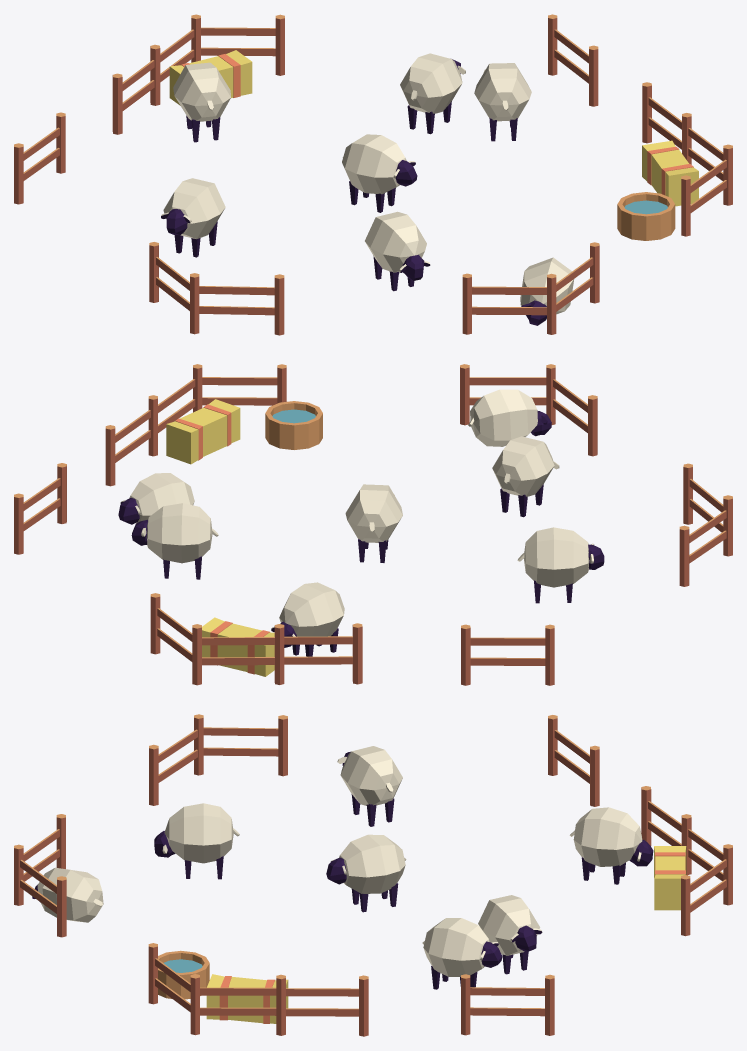
The model's file is M_Animal_Var1_2.fbx.
3 views of the same model, one above another, from view 1: azimuth 30°, elevation 25°; view 2: azimuth 150°, elevation 25°; view 3: azimuth 270°, elevation 25° (orthographic).
Visible parts, largest first — view 1: M_Animal_Var1_2; view 2: M_Animal_Var1_2; view 3: M_Animal_Var1_2.
Part boxes in pixels (left/top/right/bottom): M_Animal_Var1_2: left=14, top=14, right=732, bottom=335; M_Animal_Var1_2: left=14, top=364, right=732, bottom=685; M_Animal_Var1_2: left=14, top=714, right=732, bottom=1036.
Bounding box in the file's own units: 1.72 × 0.2134 × 1.96.
